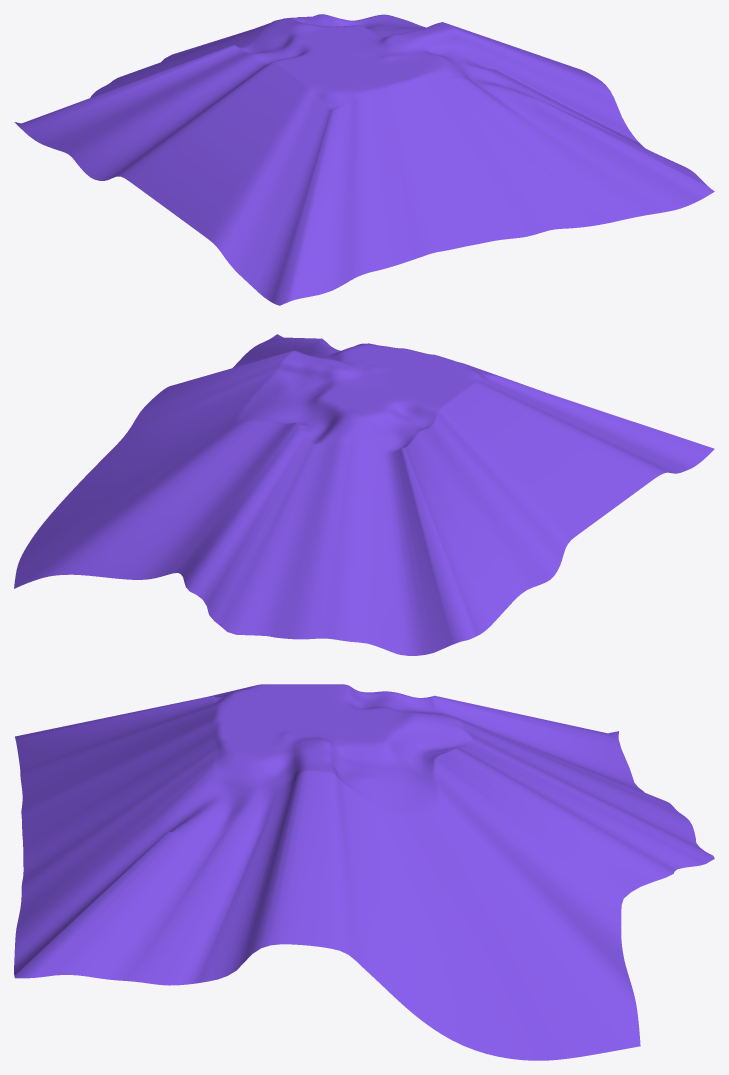
Rendered from P1_H2_Ground.fbx.
3 views of the same model, one above another, from view 1: azimuth 30°, elevation 25°; view 2: azimuth 150°, elevation 25°; view 3: azimuth 270°, elevation 25° (orthographic). The views are drawn at different scales.
Parts seen in each view (by area): view 1: Ground; view 2: Ground; view 3: Ground.
Part boxes in pixels (x1,y1,x2,y2): Ground: (14, 14, 714, 305); Ground: (14, 334, 714, 655); Ground: (14, 684, 714, 1060).
Size of the model in its own units: 41048 by 13573 by 43873.
